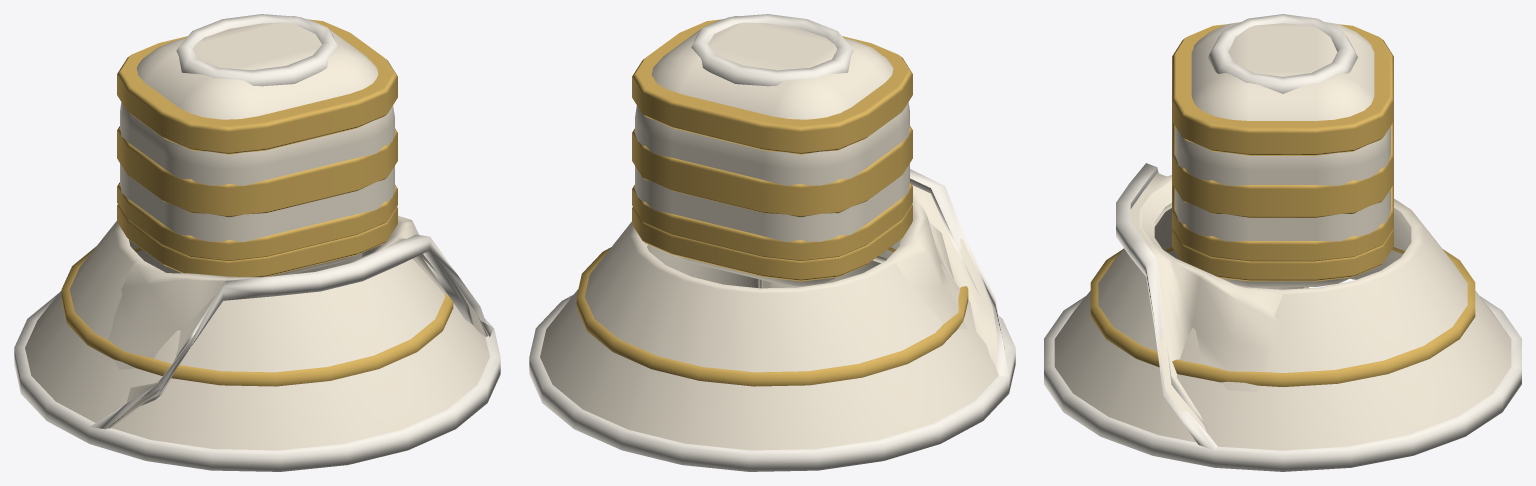
The model's file is ballet_outfit.glb.
3 views of the same model, side by side, from view 1: azimuth 30°, elevation 25°; view 2: azimuth 150°, elevation 25°; view 3: azimuth 270°, elevation 25° (orthographic).
Visible parts, largest first — view 1: ballet_outfit_Body, ballet_outfit_Body_sit; view 2: ballet_outfit_Body, ballet_outfit_Body_sit, ballet_outfit_LegR_sit, ballet_outfit_LegL_sit; view 3: ballet_outfit_Body, ballet_outfit_Body_sit.
Part boxes in pixels (left/top/right/bottom): ballet_outfit_Body: left=14, top=14, right=500, bottom=471; ballet_outfit_Body_sit: left=90, top=19, right=493, bottom=429; ballet_outfit_Body: left=529, top=14, right=1015, bottom=471; ballet_outfit_Body_sit: left=632, top=19, right=1008, bottom=376; ballet_outfit_LegR_sit: left=645, top=243, right=762, bottom=288; ballet_outfit_LegL_sit: left=758, top=256, right=886, bottom=288; ballet_outfit_Body: left=1044, top=14, right=1521, bottom=471; ballet_outfit_Body_sit: left=1116, top=24, right=1397, bottom=450.
Bounding box in the file's own units: 0.648 × 0.5289 × 0.6414.
